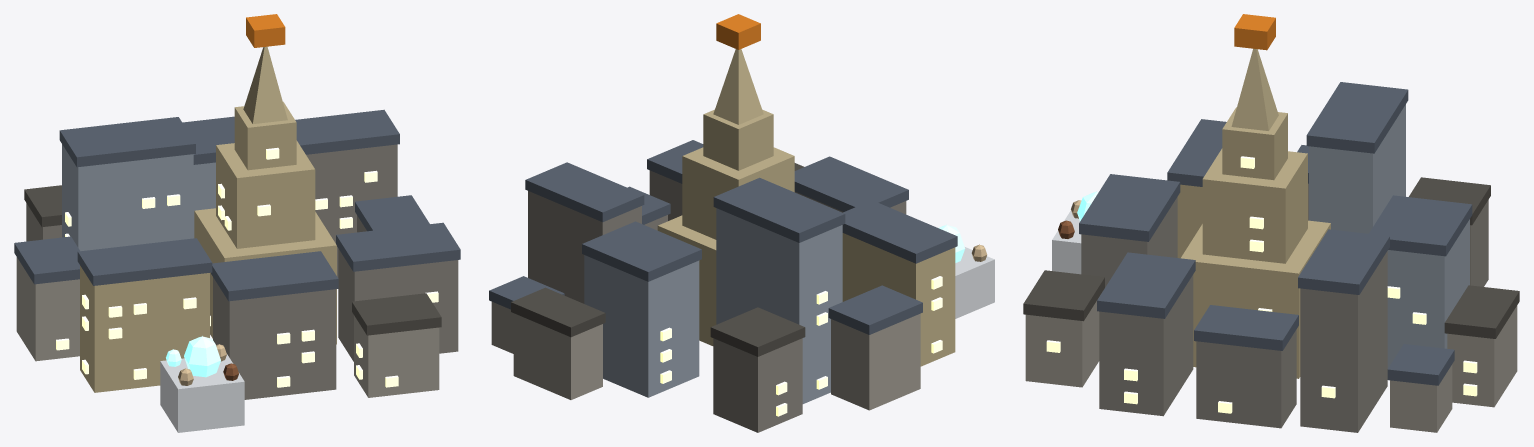
Rendered from overworld-settlement-slavic-city.glb.
3 views of the same model, side by side, from view 1: azimuth 30°, elevation 25°; view 2: azimuth 150°, elevation 25°; view 3: azimuth 270°, elevation 25° (orthographic). The views are drawn at different scales.
Visible parts, largest first — view 1: settlement; view 2: settlement; view 3: settlement.
Boxes of the visible parts, bbox=[...] form: settlement: bbox=[14, 14, 460, 432]; settlement: bbox=[489, 14, 994, 432]; settlement: bbox=[1023, 14, 1519, 432].
Bounding box in the file's own units: 0.474 × 0.3658 × 0.5076.
